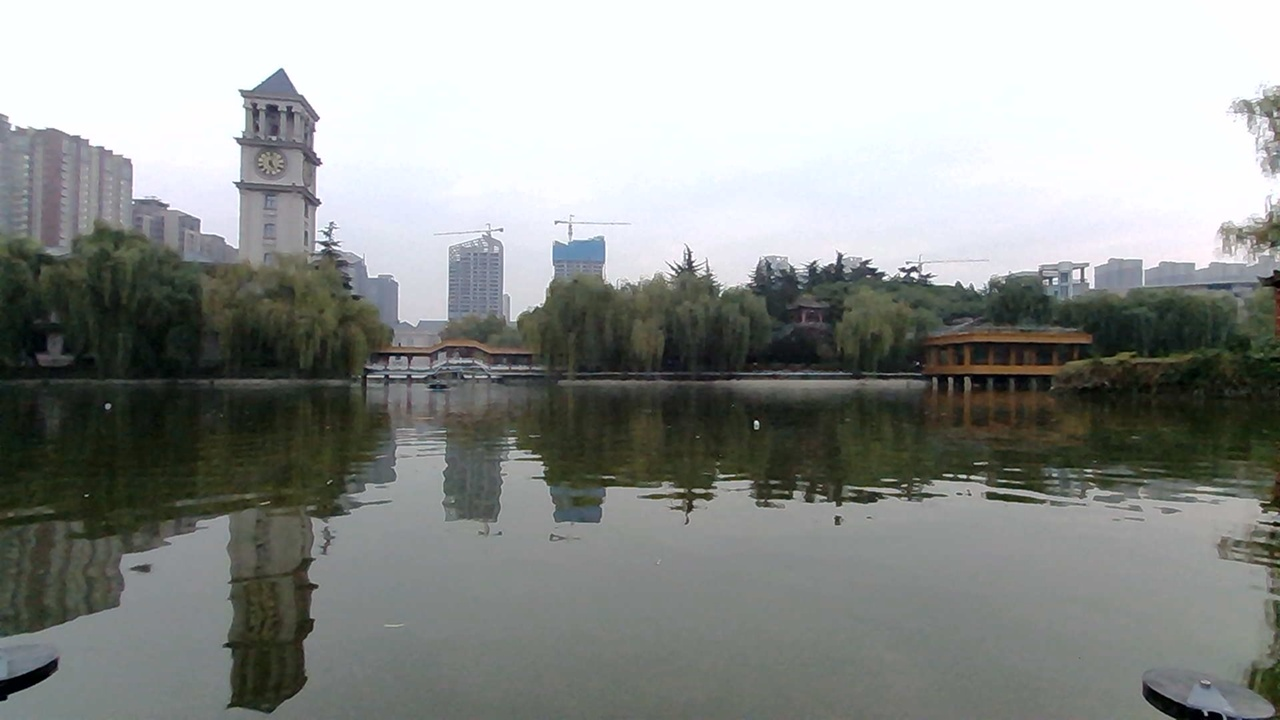bottle: (737, 410, 771, 435)
